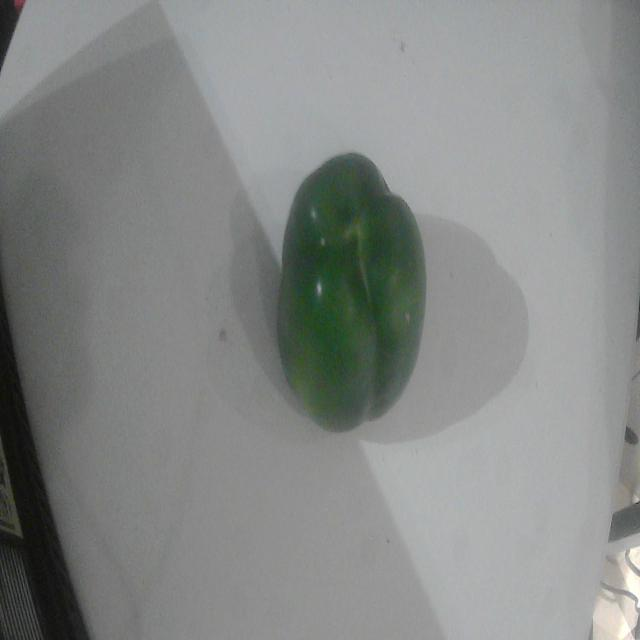Bell Pepper: (278, 154, 426, 431)
